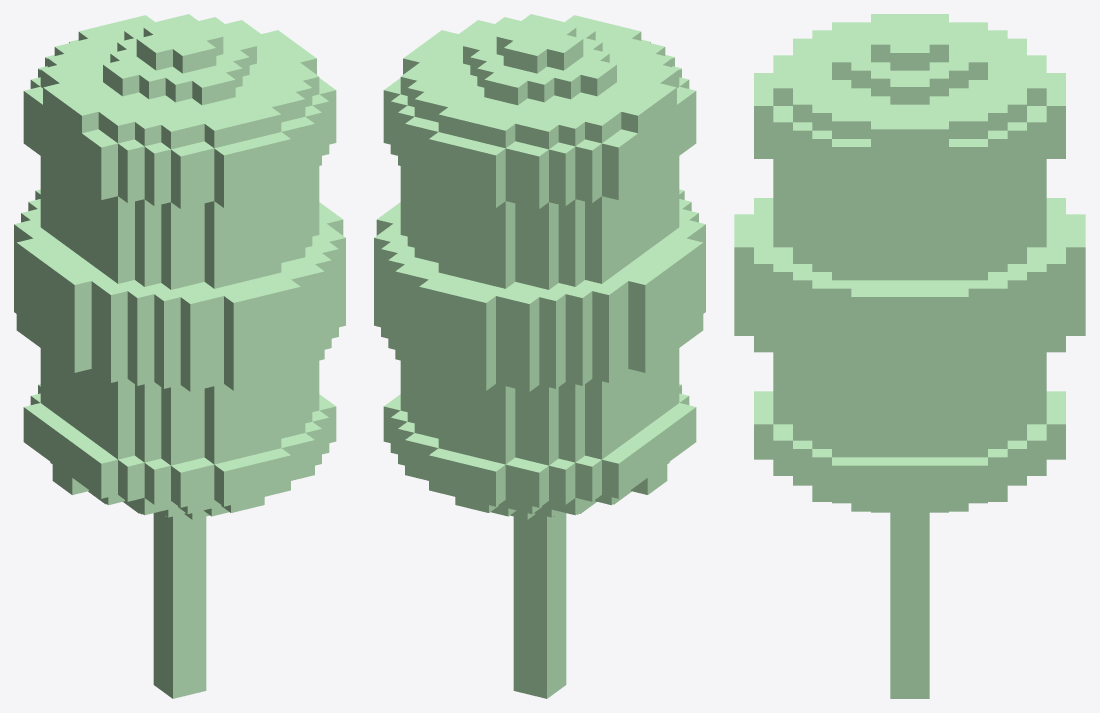
Rendered from Hive.obj.
3 renders of one model, left to right at view 1: azimuth 30°, elevation 25°; view 2: azimuth 150°, elevation 25°; view 3: azimuth 270°, elevation 25°, orthographic.
Visible parts, largest first — view 1: Hive; view 2: Hive; view 3: Hive.
Part boxes in pixels (box(x1,y1,x2,y2)): Hive: box(14, 14, 345, 698); Hive: box(374, 14, 705, 698); Hive: box(734, 14, 1085, 698).
Bounding box in the file's own units: 16 × 37 × 18.
1 material, 1 textured.
